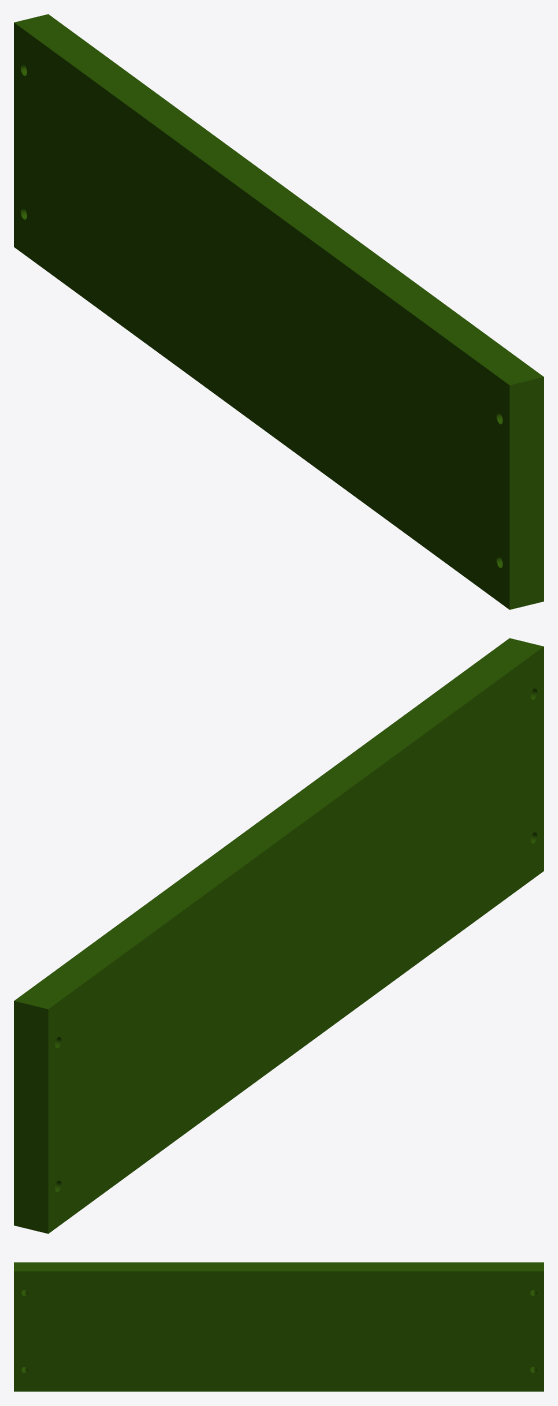
The model's file is original-29.obj.
The picture shows the model from 3 angles, top to bottom: view 1: azimuth 30°, elevation 25°; view 2: azimuth 150°, elevation 25°; view 3: azimuth 270°, elevation 25°; orthographic projection. The views are drawn at different scales.
Visible parts, largest first — view 1: Group13/mesh19/mesh19-geometry#mesh19-geometry; view 2: Group13/mesh19/mesh19-geometry#mesh19-geometry; view 3: Group13/mesh19/mesh19-geometry#mesh19-geometry.
Part boxes in pixels (x1,y1,x2,y2): Group13/mesh19/mesh19-geometry#mesh19-geometry: [14, 14, 543, 609]; Group13/mesh19/mesh19-geometry#mesh19-geometry: [14, 638, 543, 1233]; Group13/mesh19/mesh19-geometry#mesh19-geometry: [14, 1262, 543, 1391].
Size of the model in its own units: 0.0176 by 0.1101 by 0.4405.
